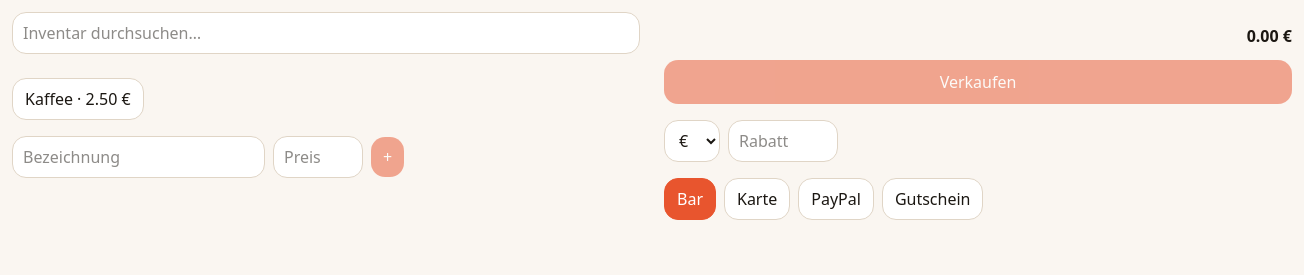
KasseScreen › submits the RESOLVED CartInput to createSale exactly once and clears the cart
What coordinates should you click on to do the following:
click the button with test id "kasse-quick-item-7"
I would click on:
 (78, 99)
Its box is x1=12 y1=78 x2=144 y2=120.
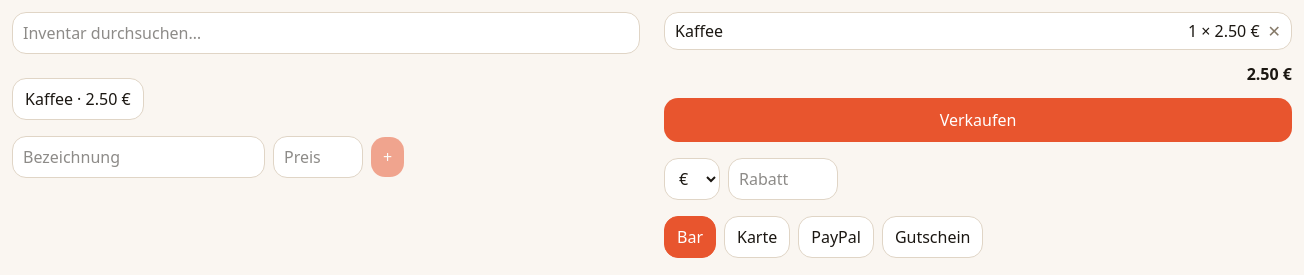
What coordinates should you click on to do the following:
click the button with test id "kasse-pay-karte"
I would click on:
 (757, 237)
Its box is x1=724 y1=216 x2=790 y2=258.
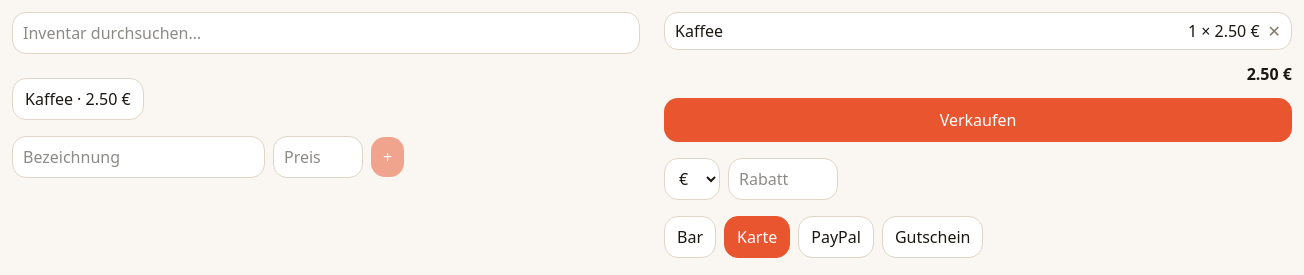
What coordinates should you click on to do the following:
click the button with test id "kasse-submit"
I would click on:
 (978, 120)
Its box is x1=664 y1=98 x2=1292 y2=142.
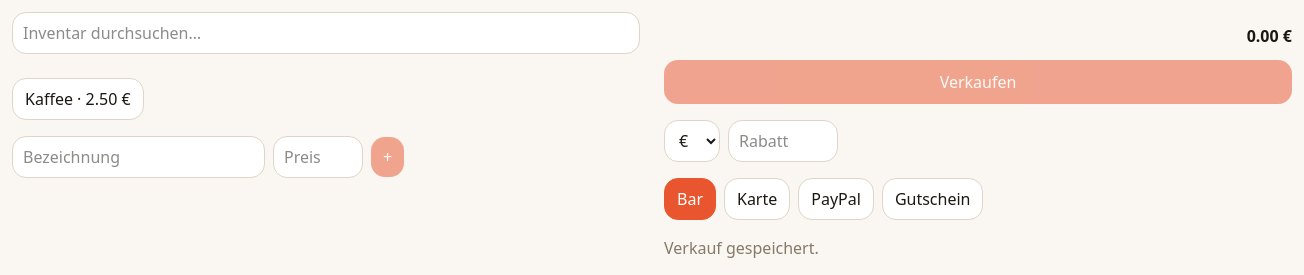
Now the list item with test id "kasse-cart-item-quick-7" is gone
Now the button with test id "kasse-submit" is disabled, box x1=664 y1=60 x2=1292 y2=104
